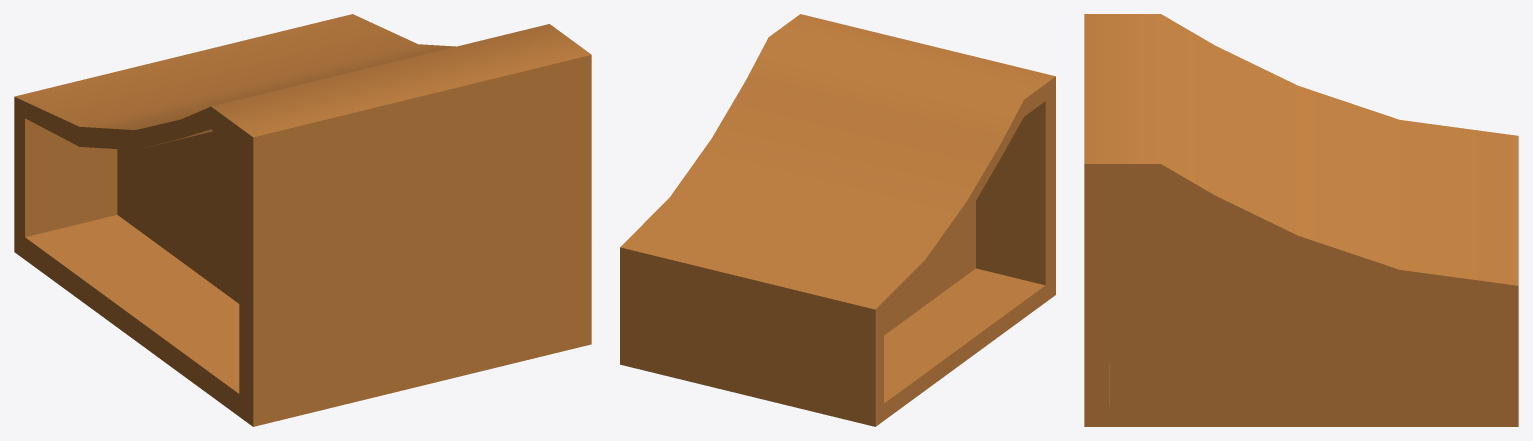
The model's file is right wing small.fbx.
The picture shows the model from 3 angles, left to right: view 1: azimuth 30°, elevation 25°; view 2: azimuth 150°, elevation 25°; view 3: azimuth 270°, elevation 25°; orthographic projection. The views are drawn at different scales.
Visible parts, largest first — view 1: polySurface98; view 2: polySurface98; view 3: polySurface98.
Part boxes in pixels (x1=…): polySurface98: x1=14, y1=14, x2=591, y2=426; polySurface98: x1=620, y1=14, x2=1055, y2=426; polySurface98: x1=1084, y1=14, x2=1518, y2=426.
Size of the model in its own units: 1.48 by 1.21 by 1.81.
1 material, 1 textured.
